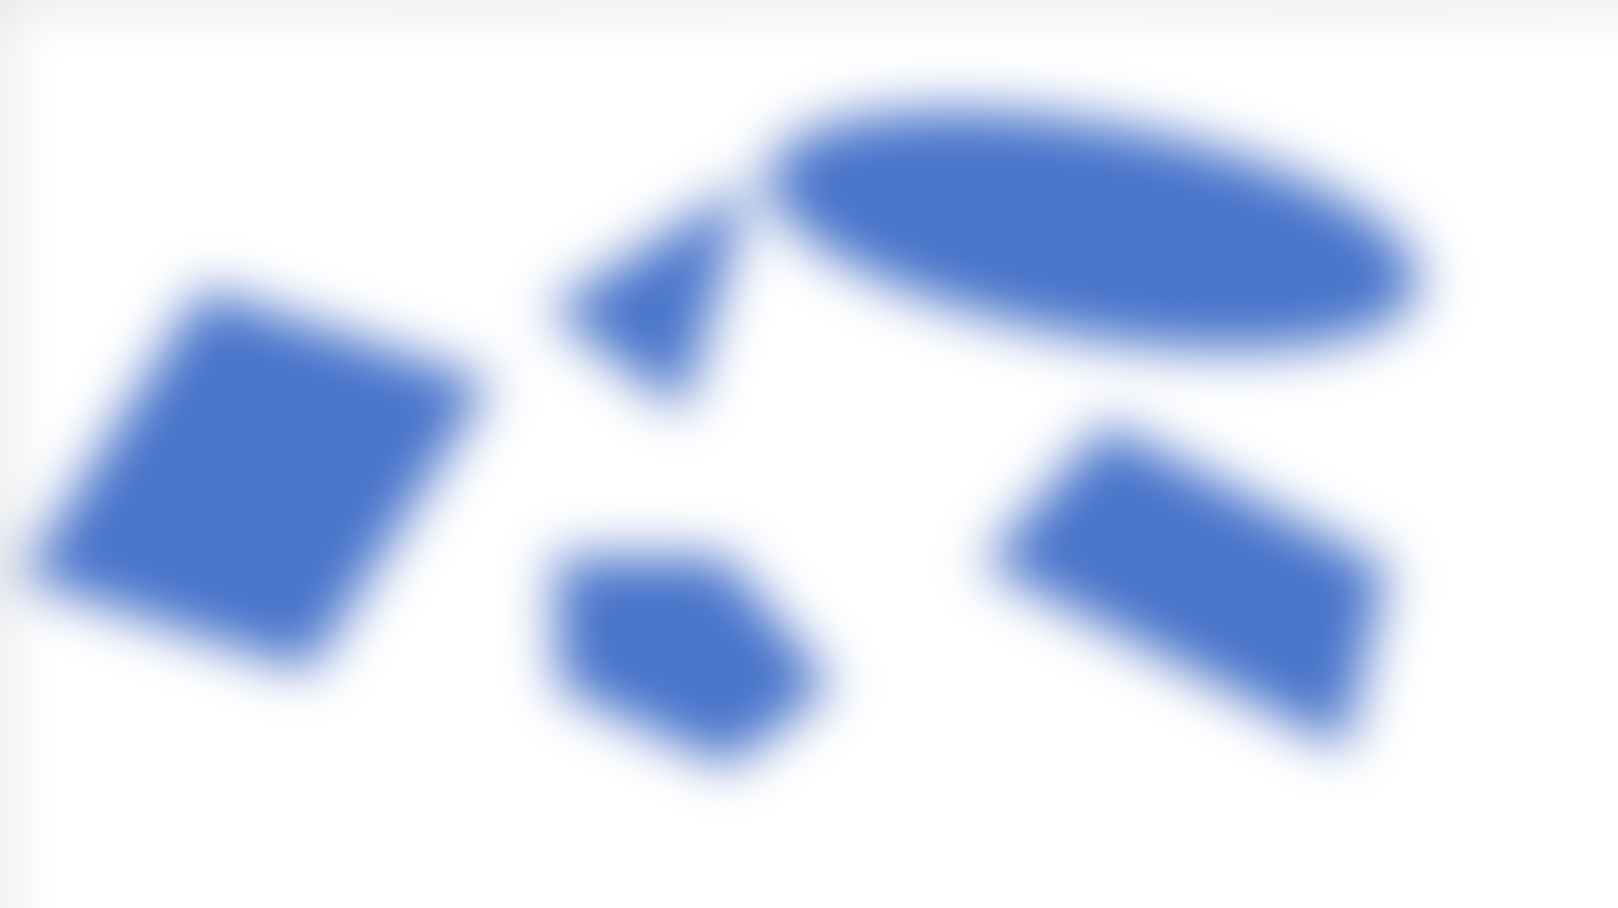circle: (718, 101, 1460, 365)
parallelogram: (10, 258, 518, 673)
pentagon: (493, 530, 865, 801)
trapezium: (973, 426, 1439, 772)
triangle: (546, 201, 755, 410)
